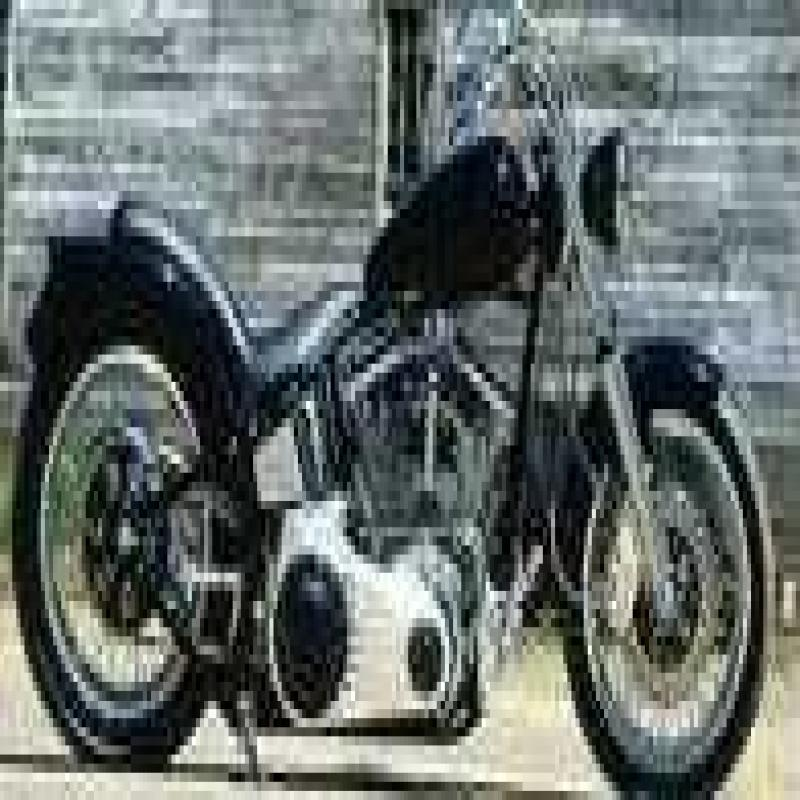bike: (8, 27, 800, 791)
